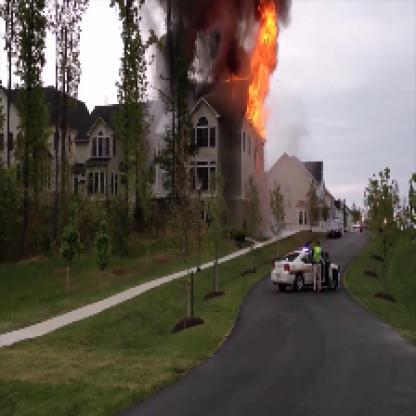Fire: (223, 2, 284, 147)
Smoke: (154, 2, 253, 104)
